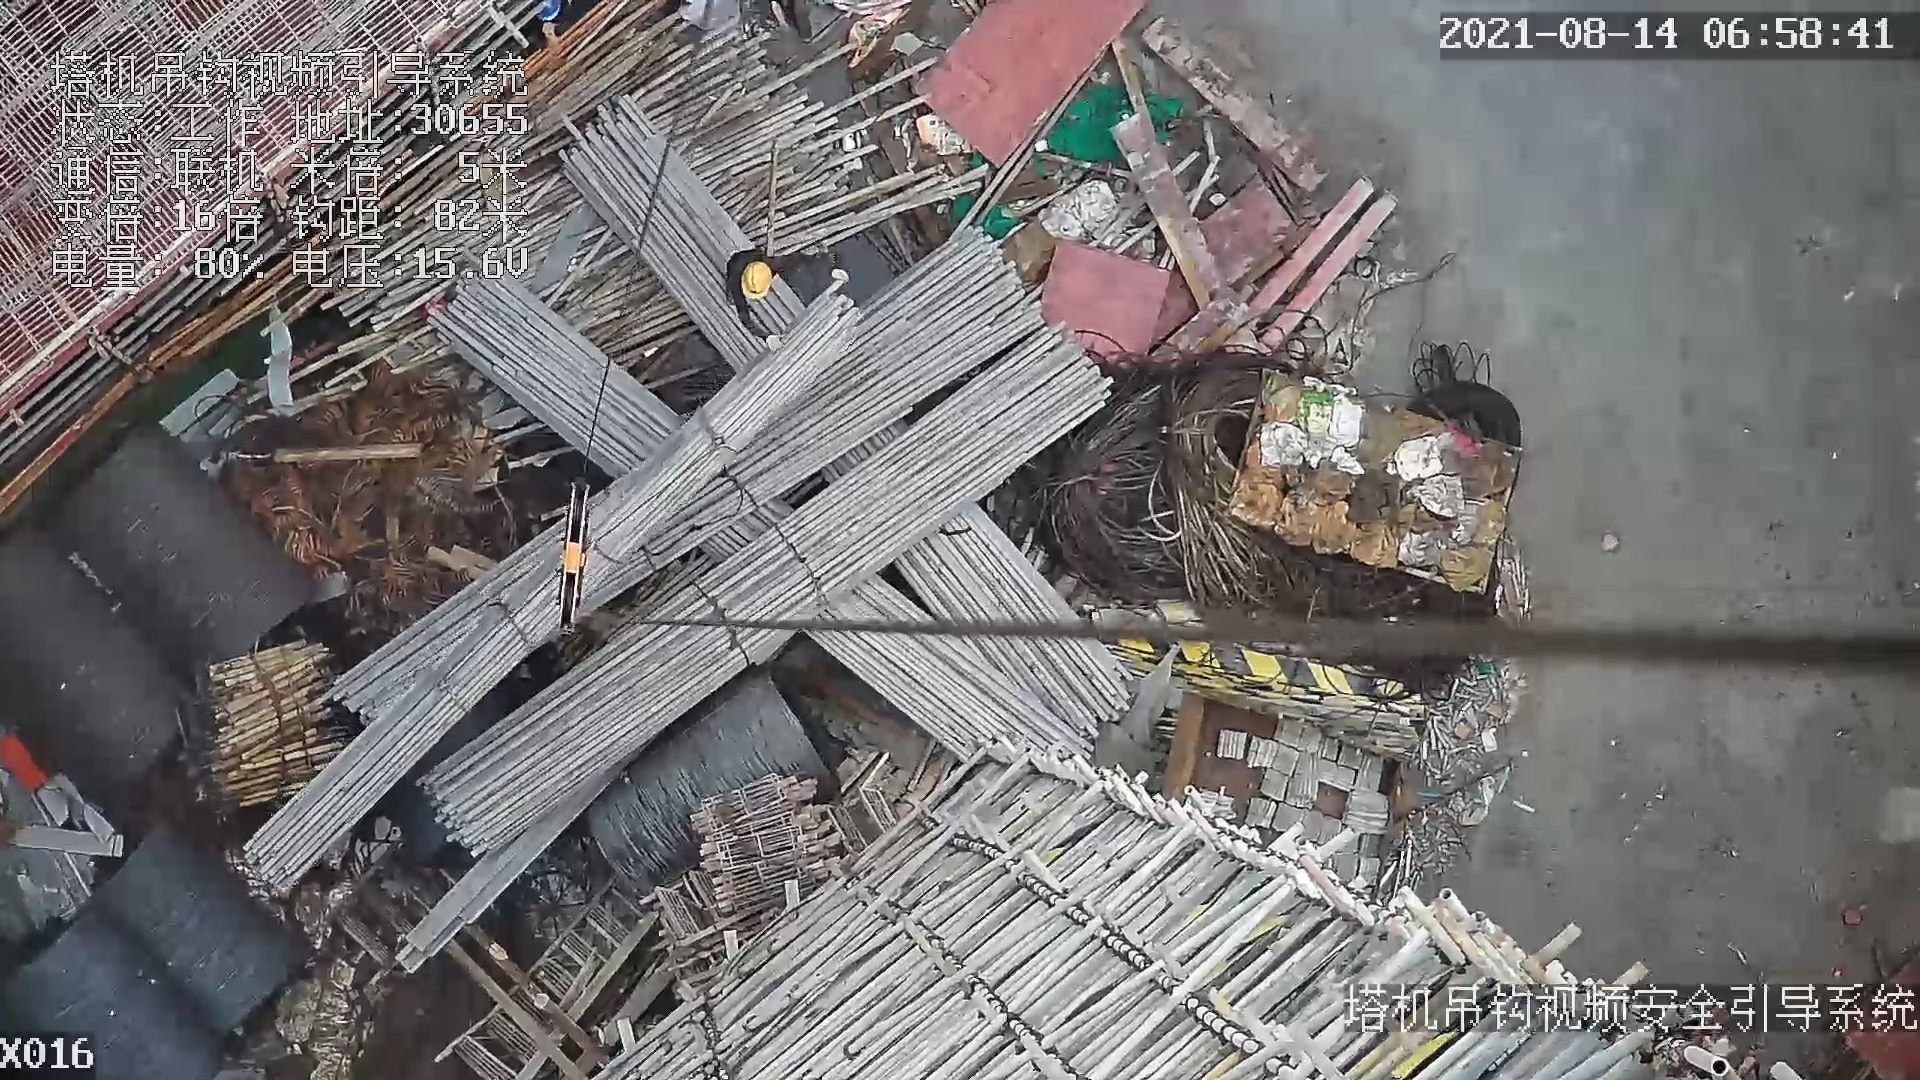helmet: (741, 261, 771, 298)
hook: (547, 483, 588, 632)
person: (717, 251, 854, 364)
rebar: (232, 289, 858, 893), (425, 329, 1113, 856), (563, 84, 1121, 730), (443, 274, 1062, 768), (616, 237, 1044, 580)
scaffold: (206, 641, 347, 810)
